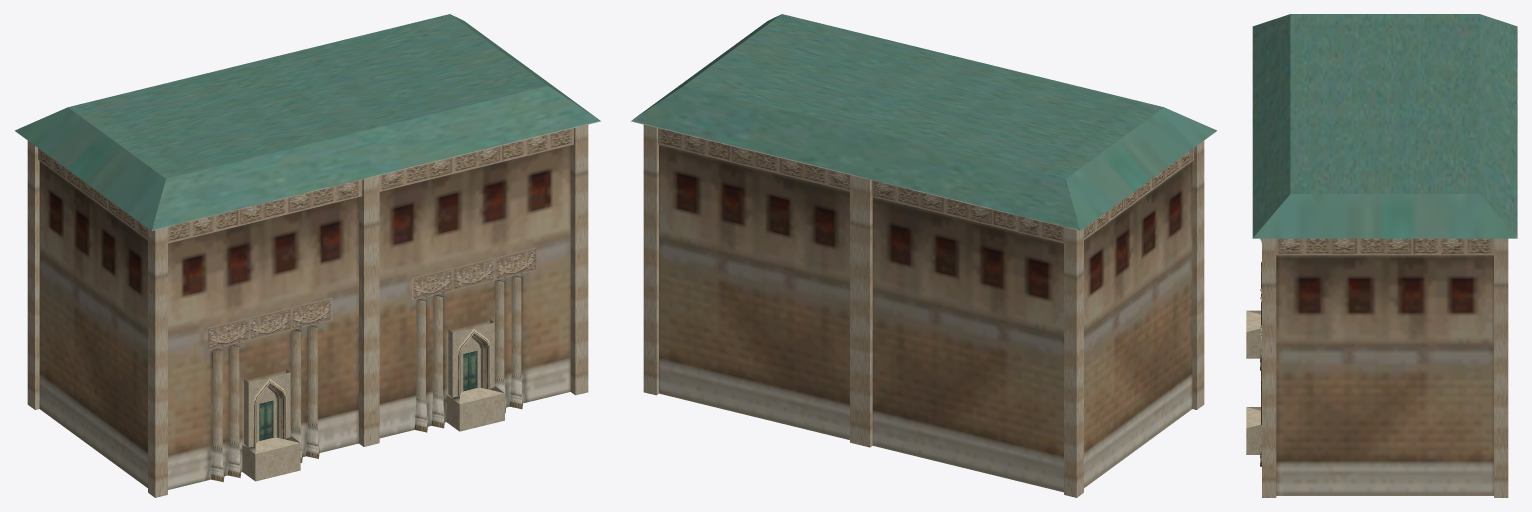
Rendered from thm_nboo_thed_imprv_building_s10_l2.fbx.
3 views of the same model, side by side, from view 1: azimuth 30°, elevation 25°; view 2: azimuth 150°, elevation 25°; view 3: azimuth 270°, elevation 25° (orthographic). The views are drawn at different scales.
Visible parts, largest first — view 1: mesh_node; view 2: mesh_node; view 3: mesh_node.
Part boxes in pixels (box(x1,y1,x2,y2)): mesh_node: box(15, 14, 600, 497); mesh_node: box(631, 14, 1216, 497); mesh_node: box(1246, 14, 1517, 497).
Size of the model in its own units: 39.74 by 25.5 by 21.5.
